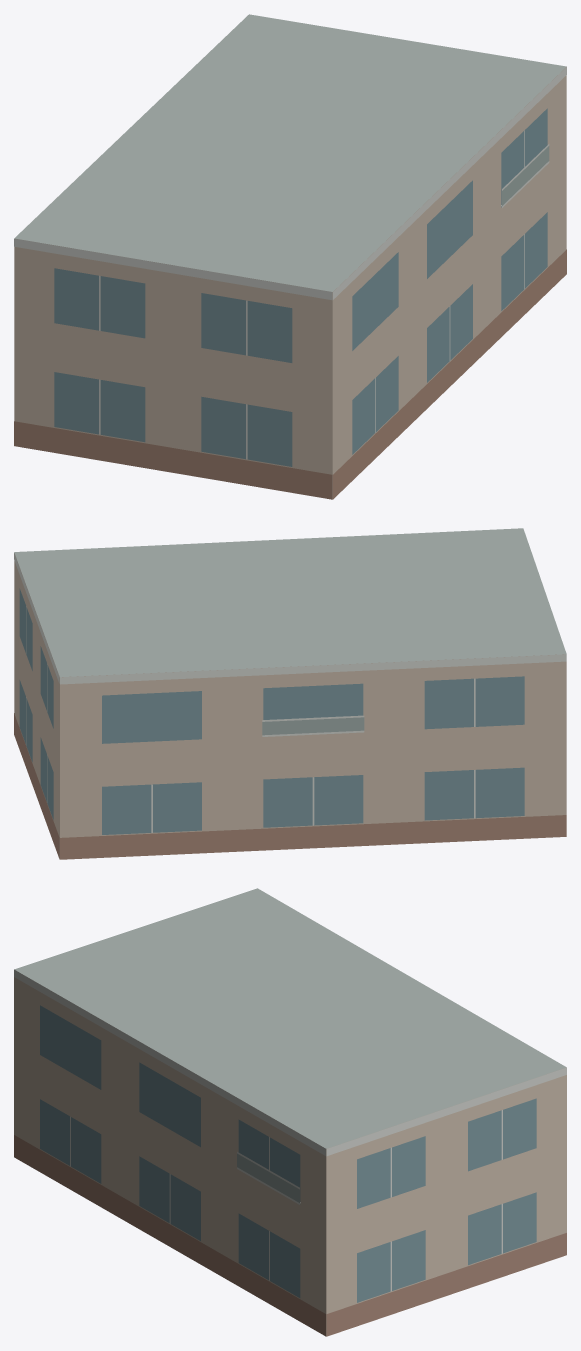
Rendered from survey-upis-32814709.glb.
3 views of the same model, one above another, from view 1: azimuth 30°, elevation 25°; view 2: azimuth 150°, elevation 25°; view 3: azimuth 270°, elevation 25° (orthographic). The views are drawn at different scales.
Visible parts, largest first — view 1: survey-upis-32814709.tmp; view 2: survey-upis-32814709.tmp; view 3: survey-upis-32814709.tmp.
Boxes of the visible parts, left/top/right/bottom form: survey-upis-32814709.tmp: left=14, top=14, right=566, bottom=499; survey-upis-32814709.tmp: left=14, top=528, right=566, bottom=859; survey-upis-32814709.tmp: left=14, top=888, right=566, bottom=1336.
Bounding box in the file's own units: 18.17 × 6.1 × 16.28.
